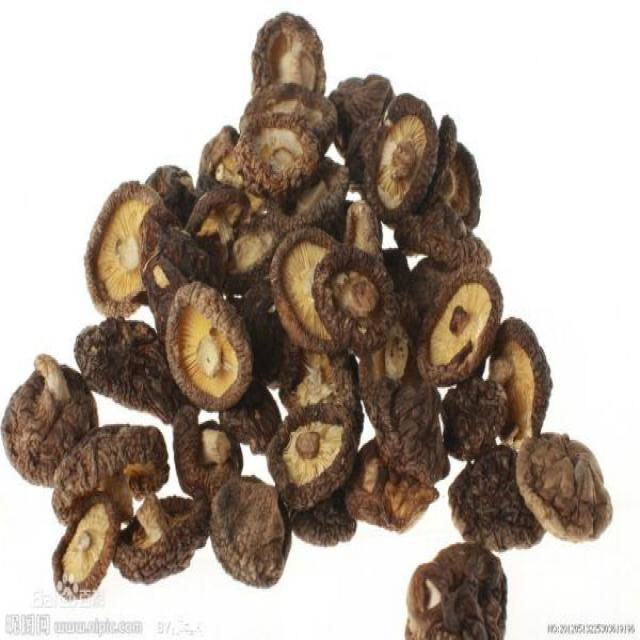Lentinus edodes: (4, 351, 100, 486), (166, 280, 256, 408), (49, 424, 171, 518), (84, 176, 164, 318), (518, 433, 614, 542), (405, 541, 508, 640), (421, 269, 505, 387), (270, 402, 358, 507), (211, 476, 293, 587), (274, 227, 345, 353), (368, 95, 438, 219), (313, 249, 399, 348), (113, 495, 203, 582), (491, 317, 553, 434), (54, 496, 119, 600), (237, 115, 322, 193), (175, 419, 243, 492)
